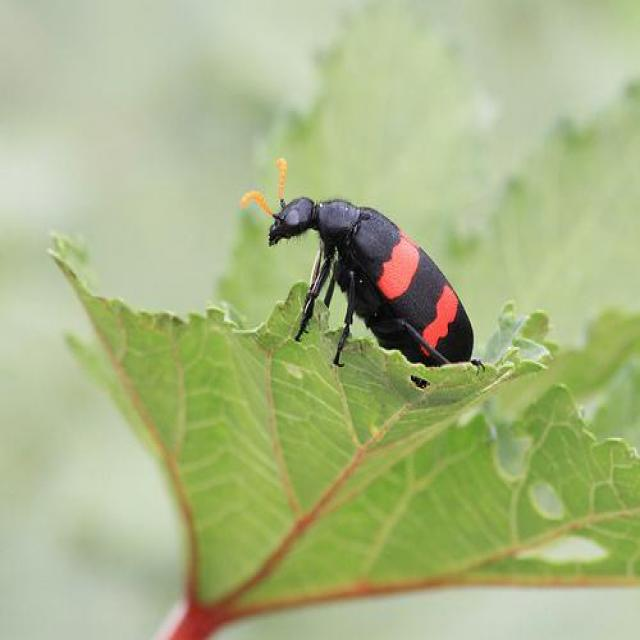BlisterBeetle-Adult-: (227, 149, 497, 415)
